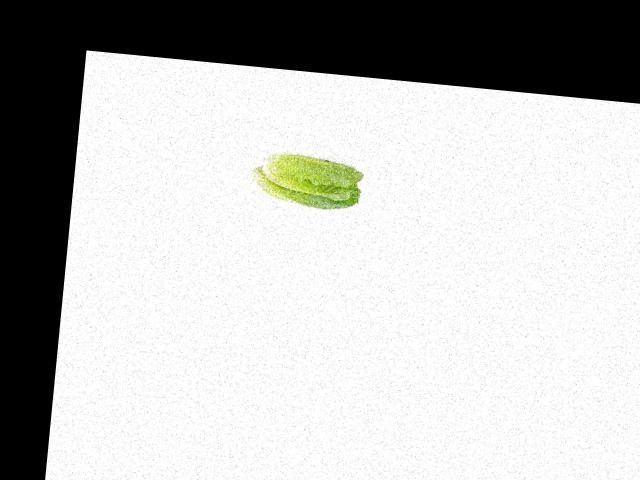lettuce: (250, 143, 367, 212)
